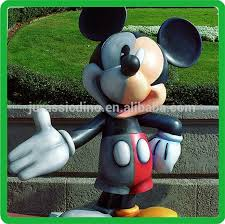Mickey: (77, 6, 202, 119)
